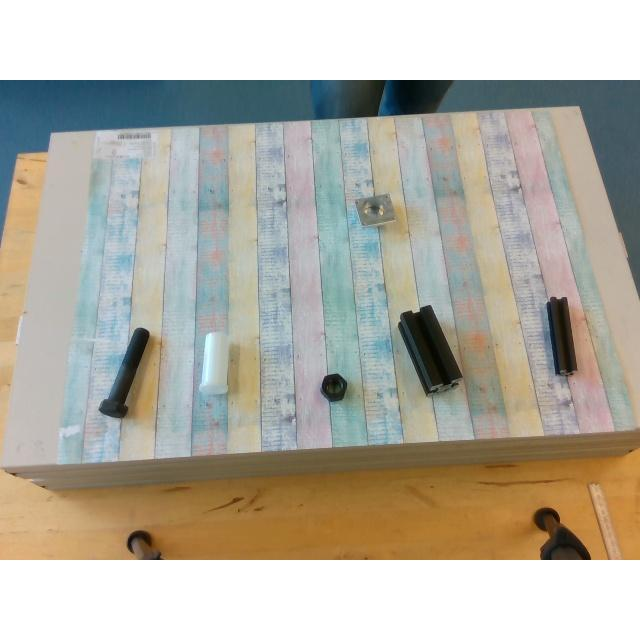F20_20_B: (546, 298, 574, 372)
M20: (320, 373, 344, 399)
M20_100: (100, 328, 148, 417)
S40_40_B: (398, 305, 462, 393)
Spacer: (197, 331, 231, 397)
